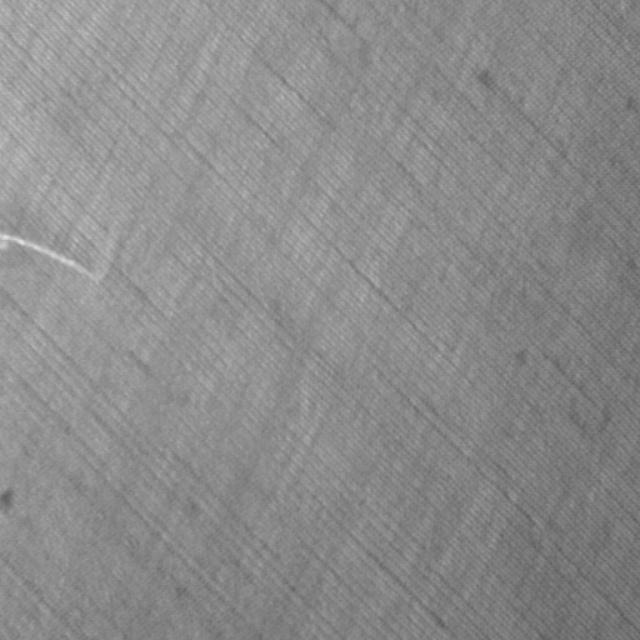objects: (0, 206, 122, 293)
